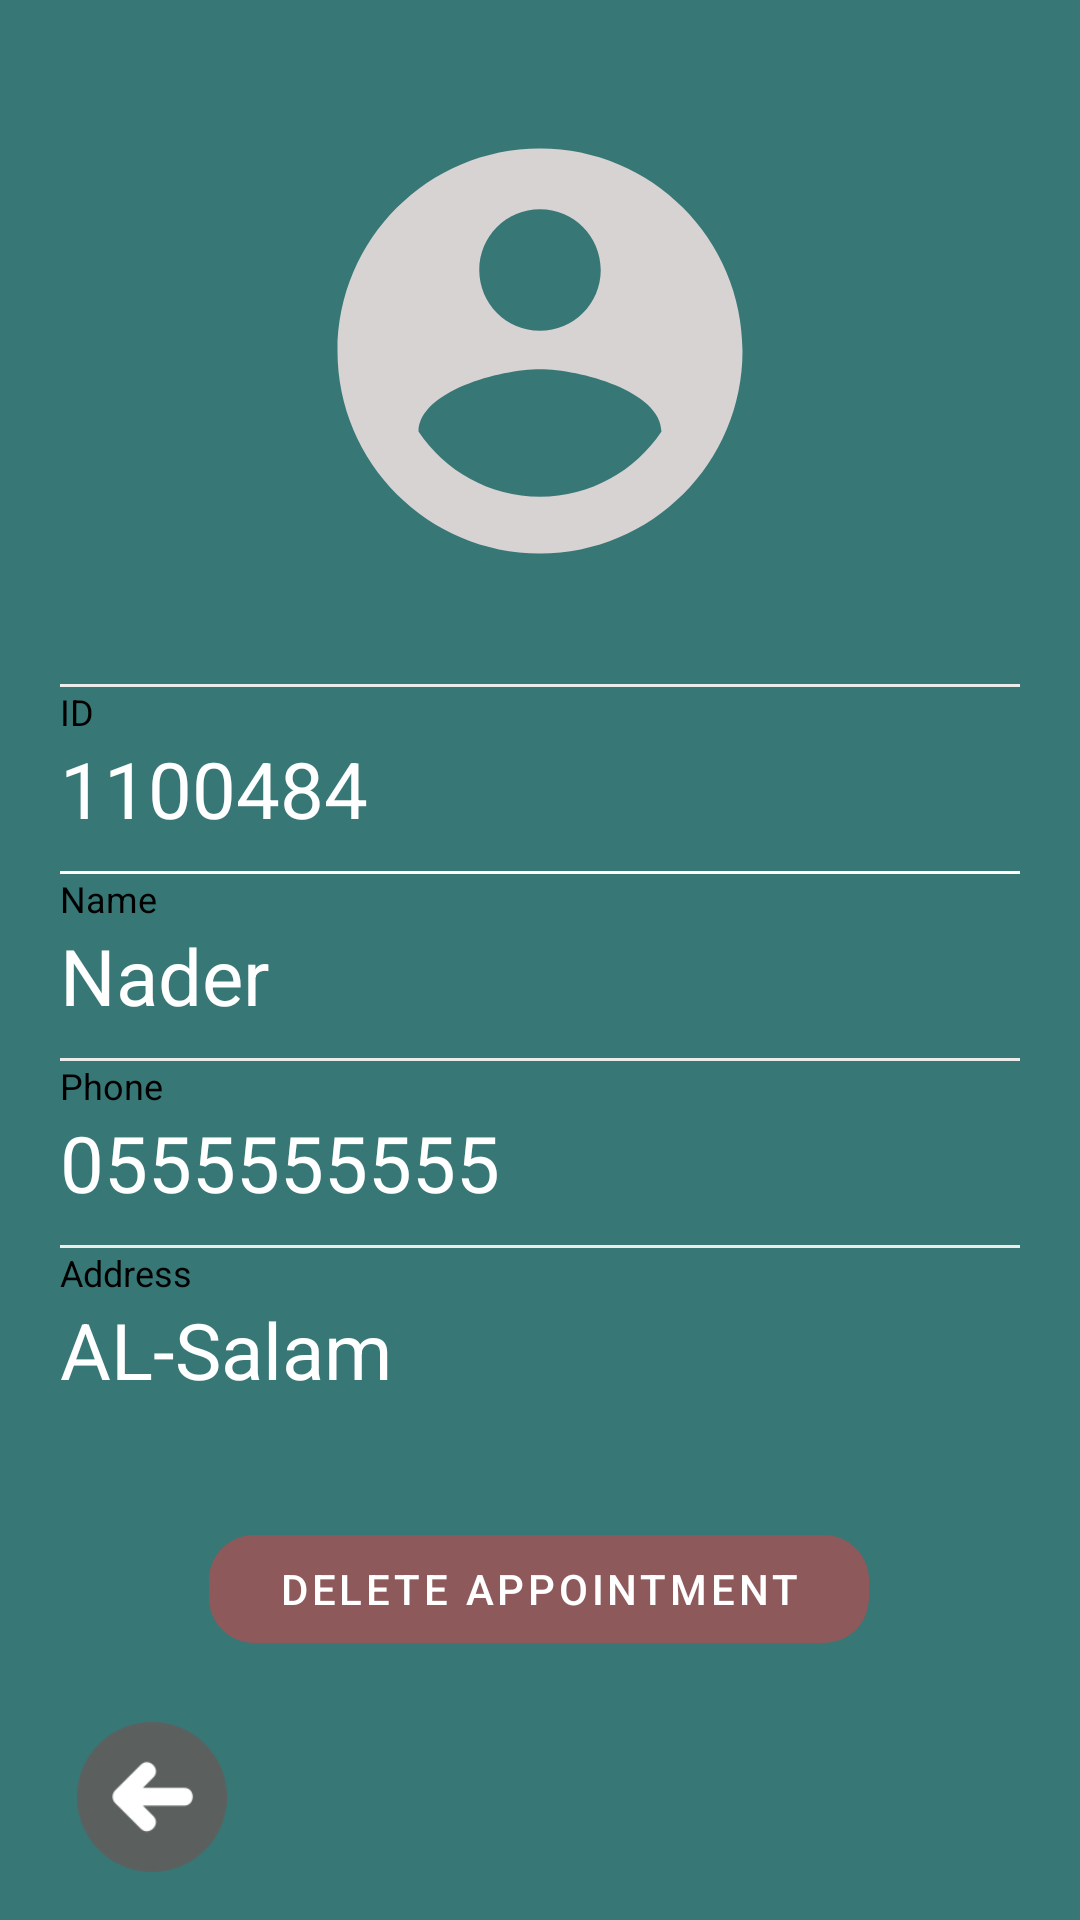

Screen size 1080px x 1920px. Icon name, then its box in pixels as BBox(x1, y1, x2, y2):
previous: BBox(77, 1722, 227, 1872)
